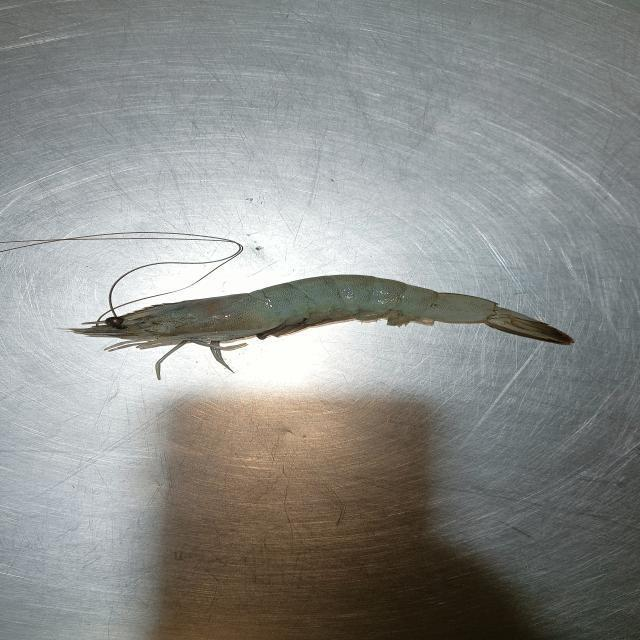shrimp: (70, 275, 579, 347)
